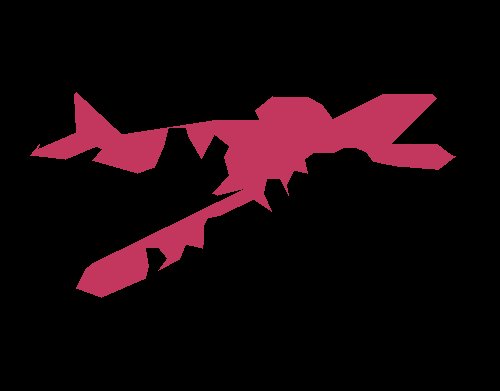Airplane: (30, 92, 456, 298)
